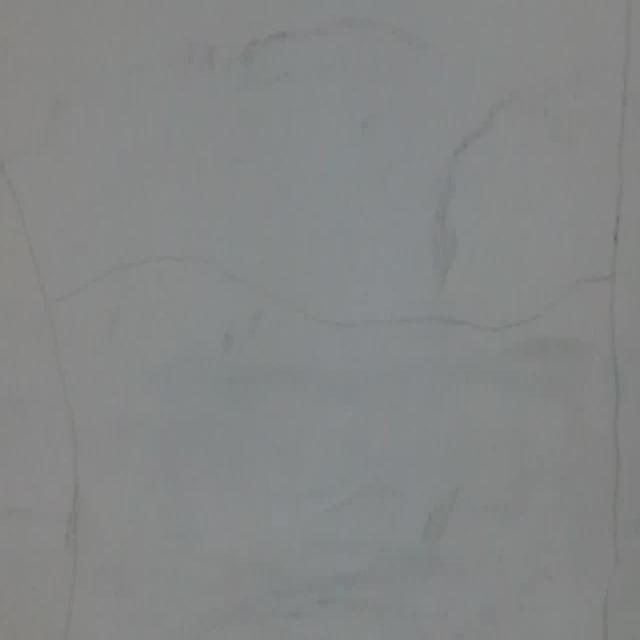Crack: (51, 254, 587, 356), (0, 128, 97, 618), (589, 0, 640, 637)
